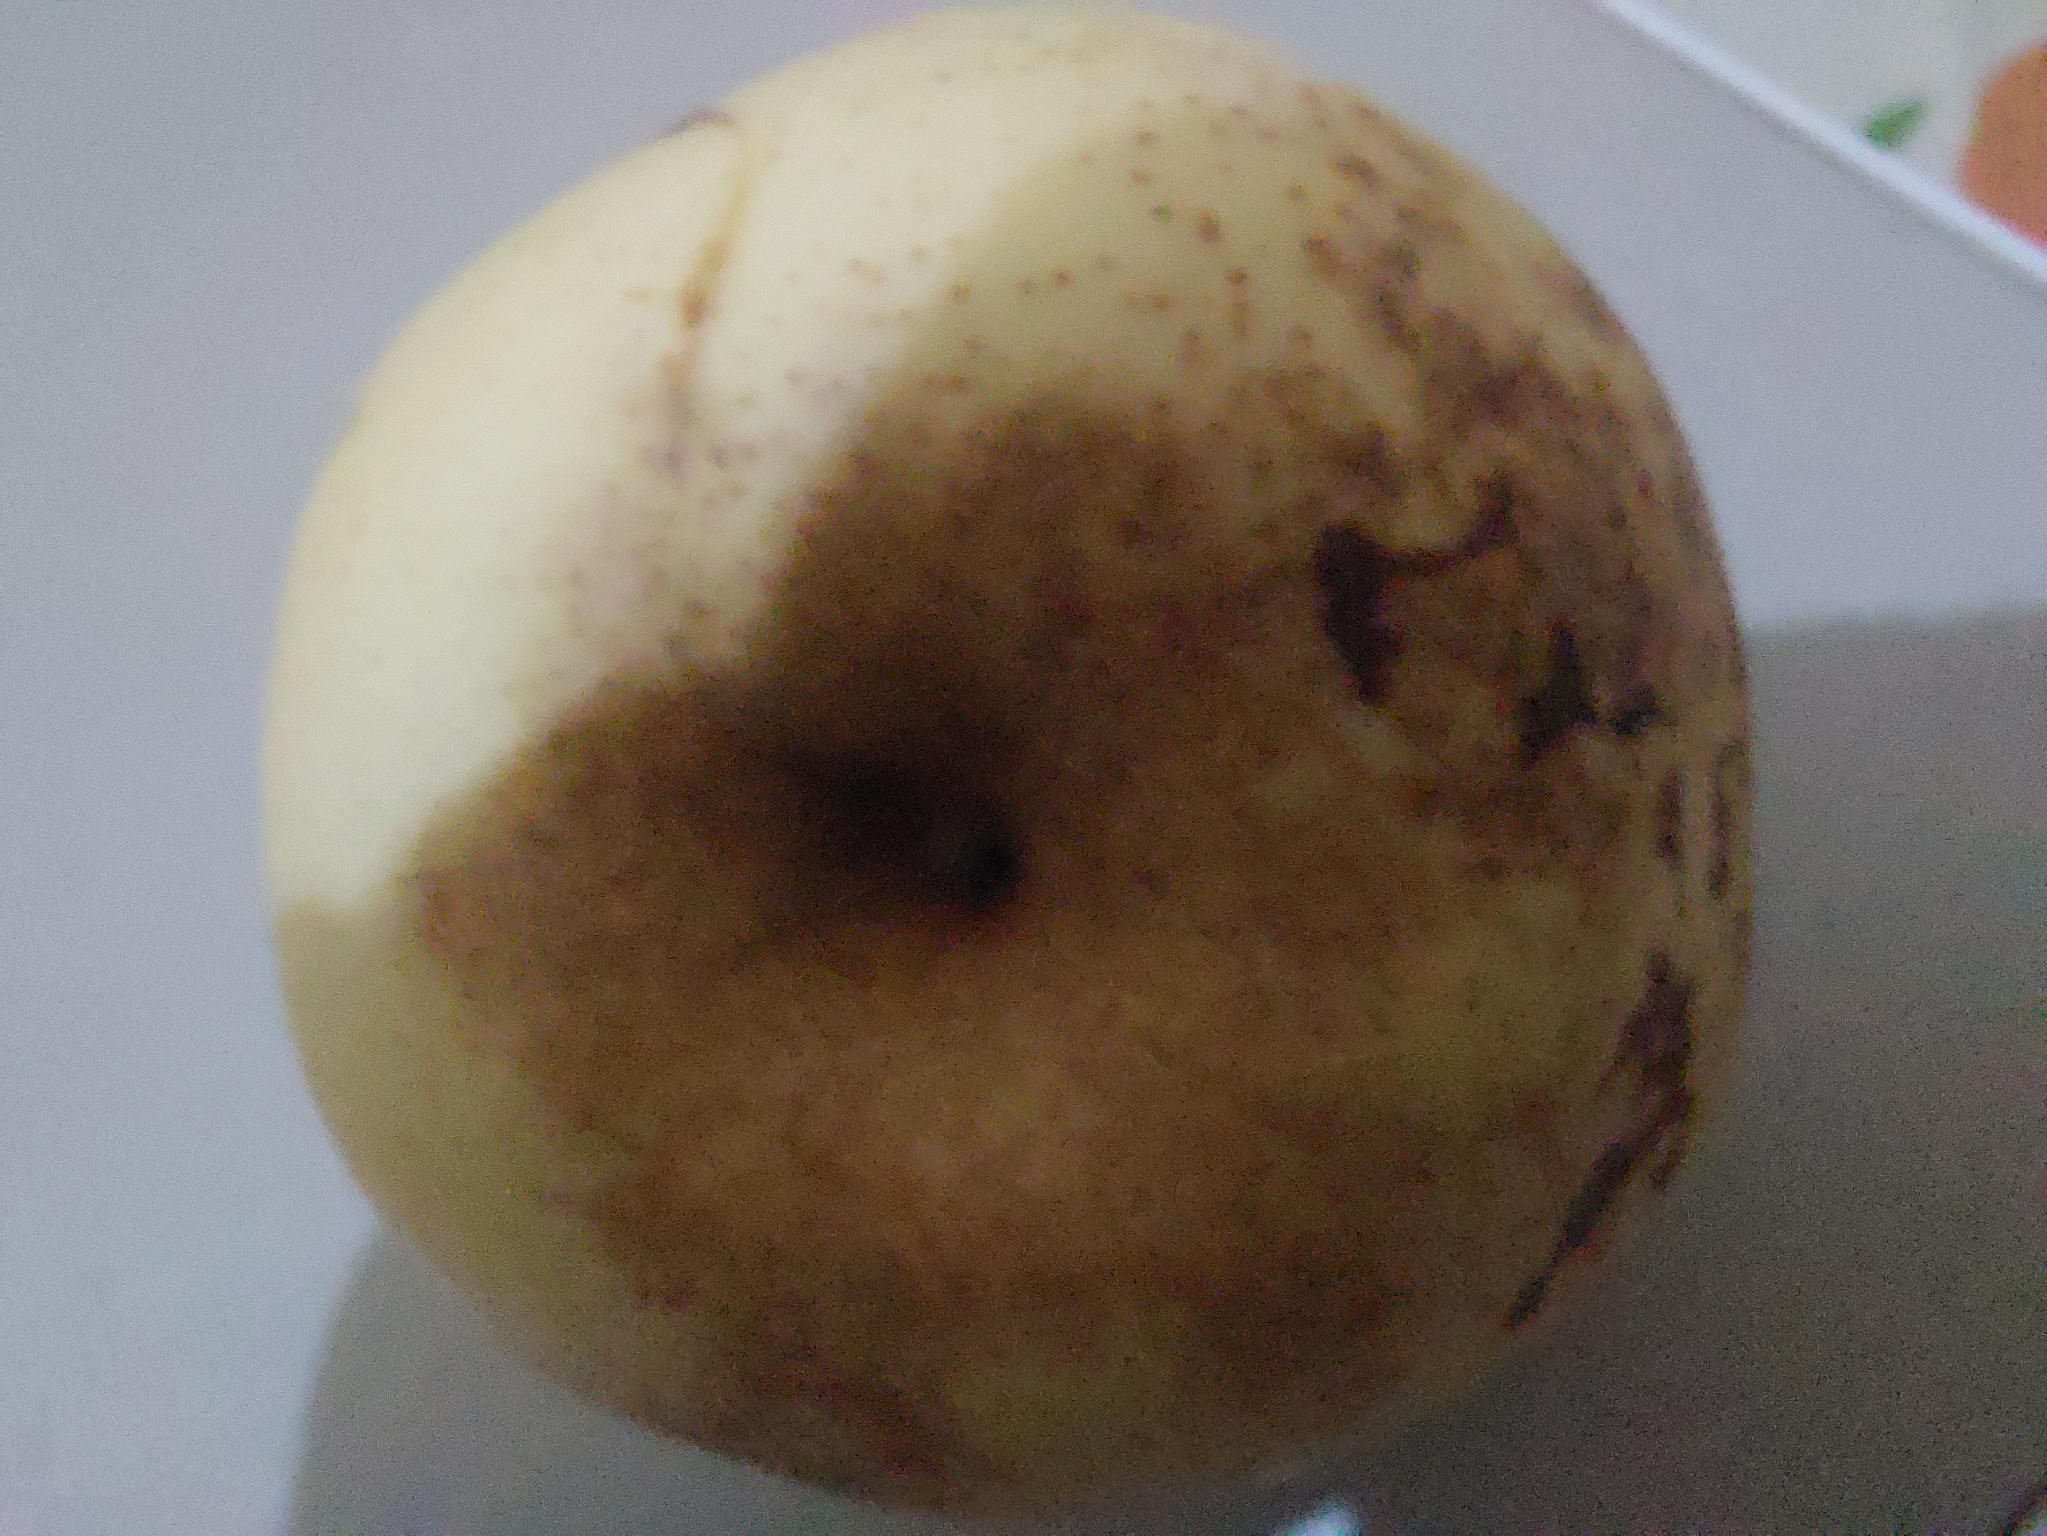Bad Pear: (244, 8, 1799, 1536)
